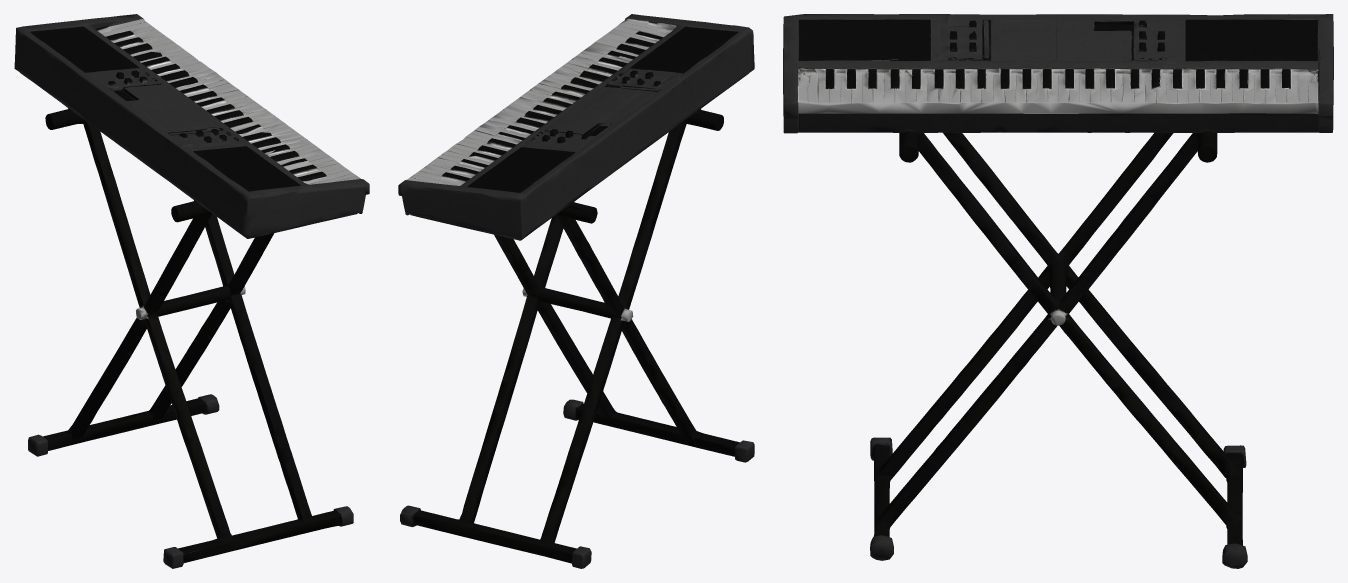
The model's file is black_keyboard_stand_3d_model.fbx.
The picture shows the model from 3 angles, left to right: view 1: azimuth 30°, elevation 25°; view 2: azimuth 150°, elevation 25°; view 3: azimuth 270°, elevation 25°; orthographic projection. The views are drawn at different scales.
Parts seen in each view (by area): view 1: tripo_node_aa921ff7; view 2: tripo_node_aa921ff7; view 3: tripo_node_aa921ff7.
Part boxes in pixels (left/top/right/bottom): tripo_node_aa921ff7: left=14, top=14, right=369, bottom=568; tripo_node_aa921ff7: left=398, top=14, right=754, bottom=568; tripo_node_aa921ff7: left=783, top=14, right=1333, bottom=568.
Bounding box in the file's own units: 0.4792 × 0.9148 × 0.9801.
